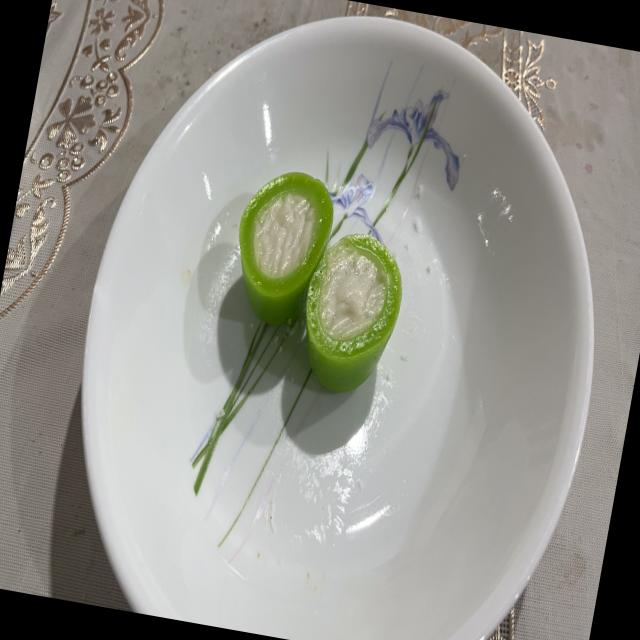nona-manis: (305, 233, 402, 392), (238, 171, 333, 324)
